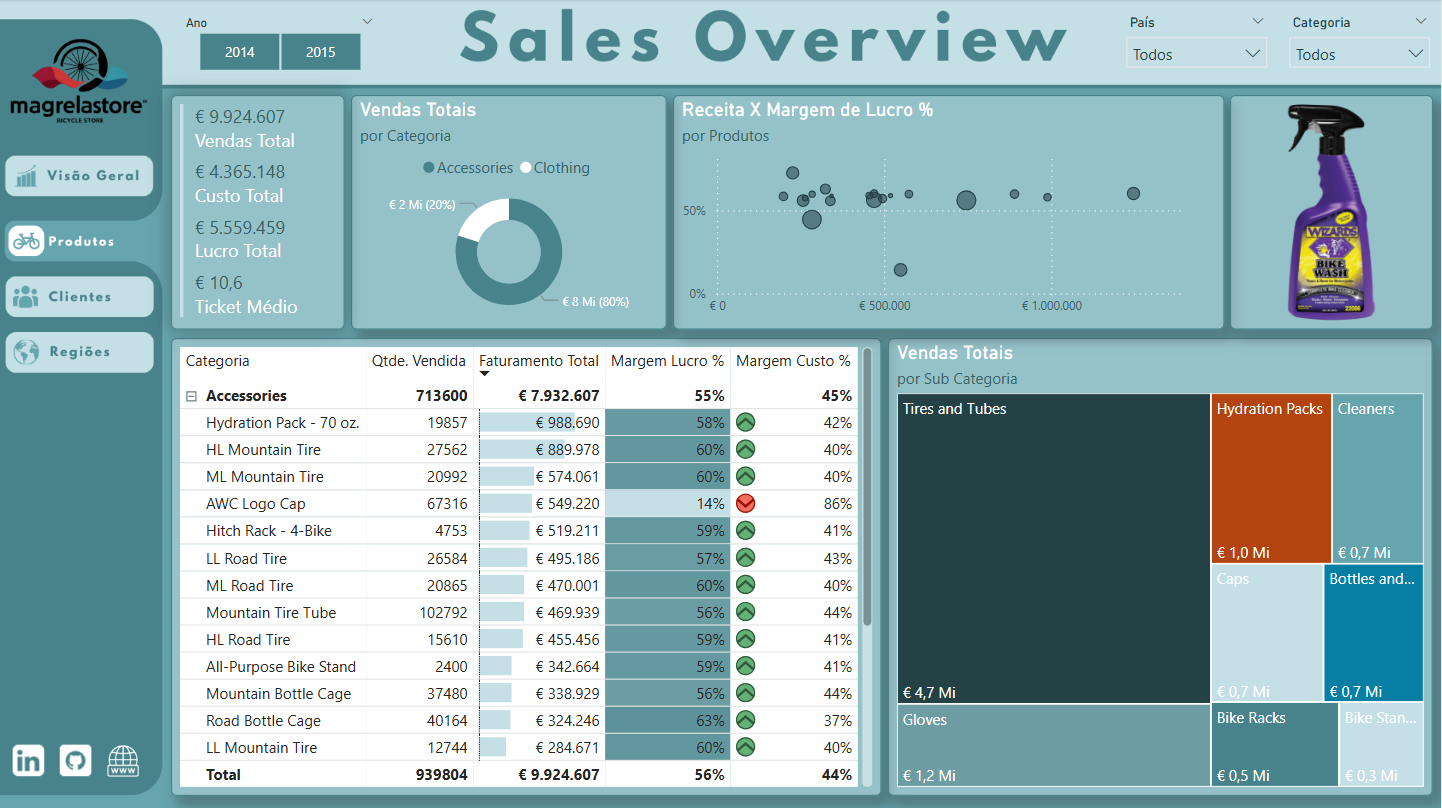

Layout of this report page (visuals, bound fields, positions):
{"tool":"powerbi","page":{"name":"Produtos","canvas":[1280,720],"ordinal":1},"visuals":[{"type":"actionButton","box":[0,243.8,141,39.9],"z":0},{"type":"actionButton","box":[0,293.5,141,39.9],"z":1000},{"type":"actionButton","box":[0,134.8,141,39.9],"z":2000},{"type":"slicer","fields":{"Values":["Dim_Dates.Ano"]},"box":[153.4,9.8,191.5,60.3],"z":3000},{"type":"slicer","fields":{"Values":["Dim_Geographic.Country"]},"box":[990.3,8.5,144.8,61.1],"z":4000},{"type":"slicer","fields":{"Values":["Dim_Product.Product_Category"]},"box":[1135.2,8.5,144.8,61.1],"z":5000},{"type":"image","box":[8,656.2,38.1,38.1],"z":6000},{"type":"image","box":[48.8,656.2,40.8,38.1],"z":7000},{"type":"image","box":[86.9,644.6,47.9,62.1],"z":8000},{"type":"actionButton","box":[0,654.4,46.1,39.9],"z":9000},{"type":"actionButton","box":[48.8,655.3,40.8,39.9],"z":10000},{"type":"actionButton","box":[89.6,654.4,47.9,40.8],"z":11000},{"type":"donutChart","fields":{"Category":["Dim_Product.Product_Category"],"Y":["#Medidas.01 Vendas Totais"]},"box":[313,85.1,280.2,208.4],"z":12000},{"type":"pivotTable","fields":{"Rows":["Dim_Product.Product_Category","Dim_Product.Product"],"Values":["#Medidas.06 Qtde. Vendida","#Medidas.01 Vendas Totais","#Medidas.04 Margem Lucro %","#Medidas.05 Margem Custo %"]},"box":[153.4,300.6,629.6,406.1],"z":13000},{"type":"treemap","fields":{"Values":["#Medidas.01 Vendas Totais"],"Group":["Dim_Product.Sub_Category"]},"box":[789.2,300.6,483.3,406.1],"z":14000},{"type":"multiRowCard","fields":{"Values":["#Medidas.01 Vendas Totais","#Medidas.02 Custo Total","#Medidas.03 Lucro","#Medidas.10 Ticket Médio"]},"box":[153.4,85.1,154.3,208.4],"z":15000},{"type":"scatterChart","title":"Receita X Margem de Lucro %","fields":{"X":["#Medidas.01 Vendas Totais"],"Size":["#Medidas.06 Qtde. Vendida"],"Category":["Dim_Product.Product"],"Y":["#Medidas.04 Margem Lucro %"]},"box":[598.5,85.1,488.6,208.4],"z":16000},{"type":"simpleImageEBC4593F96F1425FB3D84C5BF02B5075","fields":{"imageURL":["Imagens Produtos.URL"]},"box":[1092.4,85.1,180,208.4],"z":17000}]}

Visuals, with their boxes in screenshot pixels (x1, y1, x2, y2), scaled from the page's 1280x720 canvas onto the 1442x808 screenshot:
actionButton: (0, 274, 159, 318)
actionButton: (0, 329, 159, 374)
actionButton: (0, 151, 159, 196)
slicer - Dim_Dates.Ano: (173, 11, 389, 79)
slicer - Dim_Geographic.Country: (1116, 10, 1279, 78)
slicer - Dim_Product.Product_Category: (1279, 10, 1441, 78)
image: (9, 736, 52, 779)
image: (55, 736, 101, 779)
image: (98, 723, 152, 793)
actionButton: (0, 734, 52, 779)
actionButton: (55, 735, 101, 780)
actionButton: (101, 734, 155, 780)
donutChart - Dim_Product.Product_Category x #Medidas.01 Vendas Totais: (353, 96, 668, 329)
pivotTable - Dim_Product.Product_Category x Dim_Product.Product: (173, 337, 882, 793)
treemap - #Medidas.01 Vendas Totais x Dim_Product.Sub_Category: (889, 337, 1434, 793)
multiRowCard - #Medidas.01 Vendas Totais x #Medidas.02 Custo Total: (173, 96, 347, 329)
"Receita X Margem de Lucro %" scatterChart: (674, 96, 1225, 329)
simpleImageEBC4593F96F1425FB3D84C5BF02B5075 - Imagens Produtos.URL: (1231, 96, 1433, 329)
